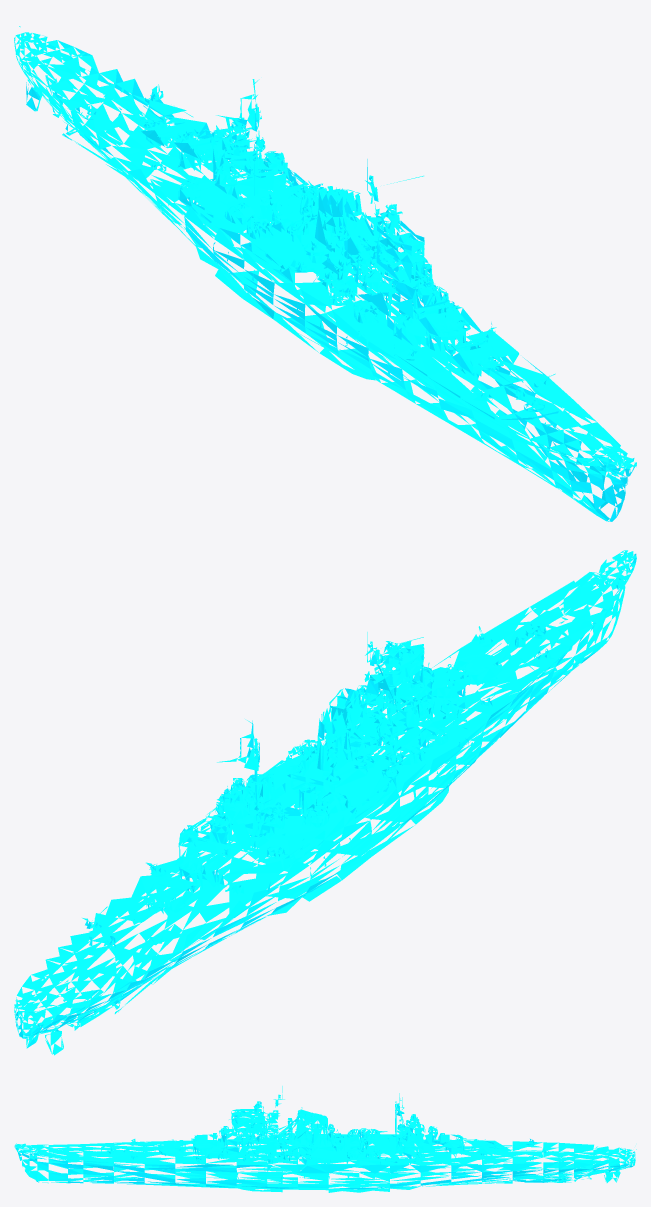
The model's file is Kurama.glb.
3 renders of one model, top to bottom at view 1: azimuth 30°, elevation 25°; view 2: azimuth 150°, elevation 25°; view 3: azimuth 270°, elevation 25°, orthographic. The views are drawn at different scales.
Bounding box in the file's own units: 1.62 × 2.79 × 16.25.
